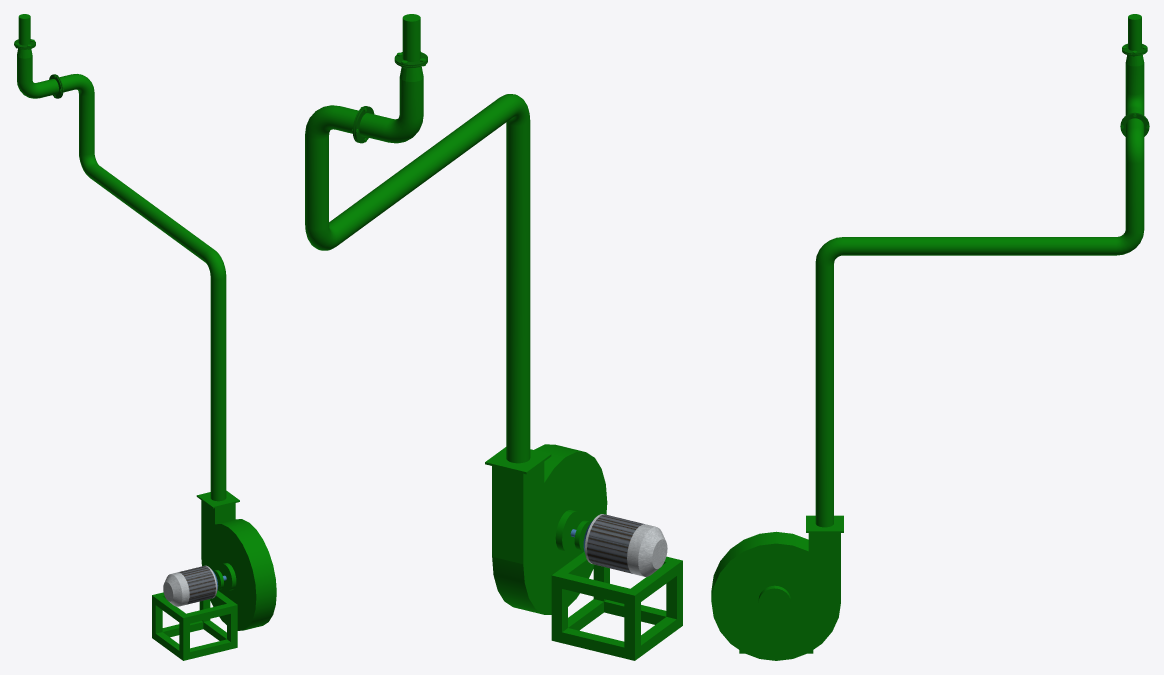
File: 鼓风机.glb
3 renders of one model, left to right at view 1: azimuth 30°, elevation 25°; view 2: azimuth 150°, elevation 25°; view 3: azimuth 270°, elevation 25°, orthographic. The views are drawn at different scales.
Parts seen in each view (by area): view 1: root; view 2: root; view 3: root.
Boxes of the visible parts, x1,y1,x2,y2 form: root: [14, 14, 276, 660]; root: [305, 14, 682, 660]; root: [711, 14, 1149, 660].
Size of the model in its own units: 1.27 by 7.28 by 4.73.
Materials: 5 (2 with a texture image).
